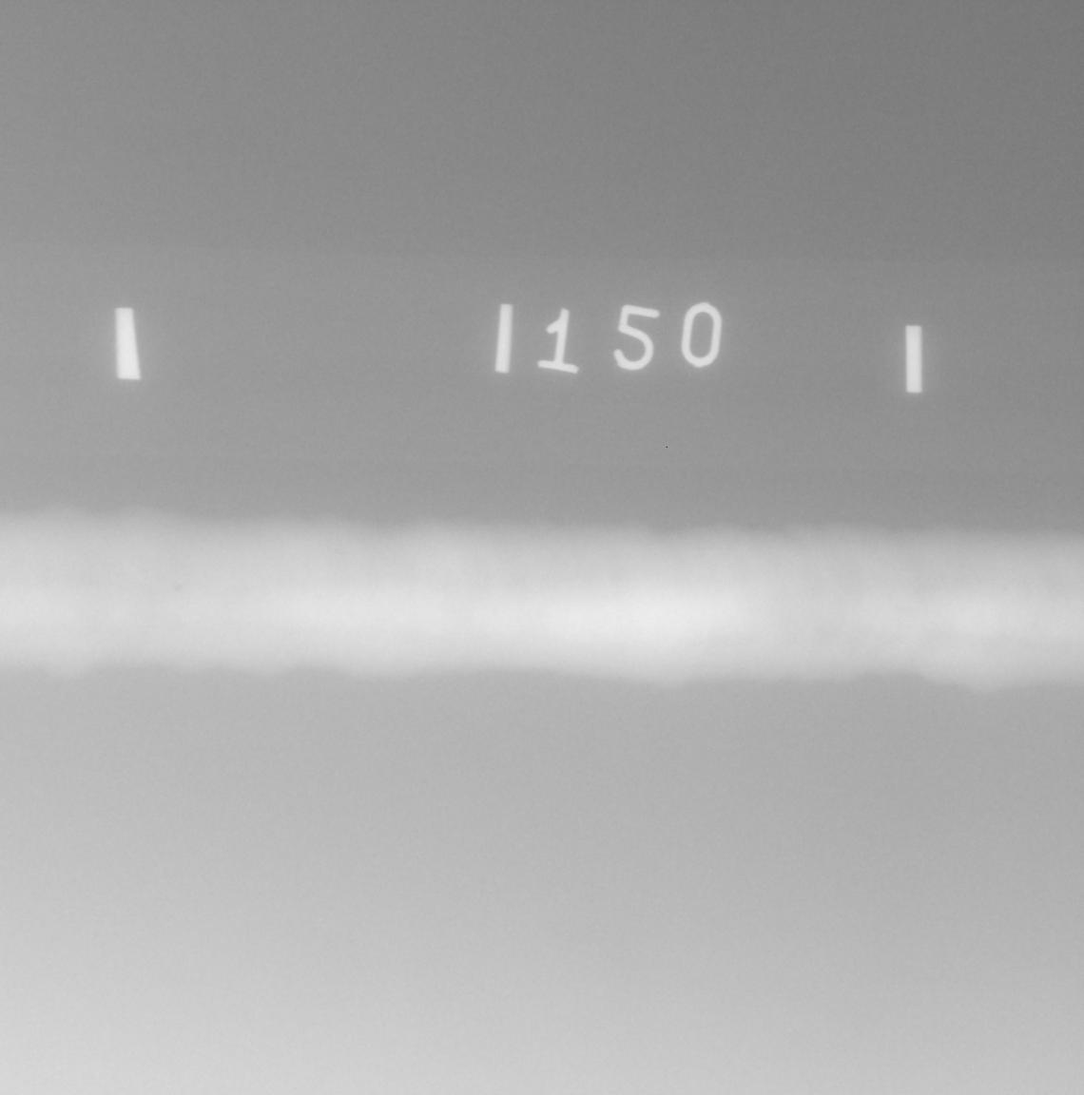Pore/Porosity: (172, 581, 184, 592), (1029, 620, 1040, 629), (1001, 584, 1008, 590), (1011, 631, 1017, 635)
